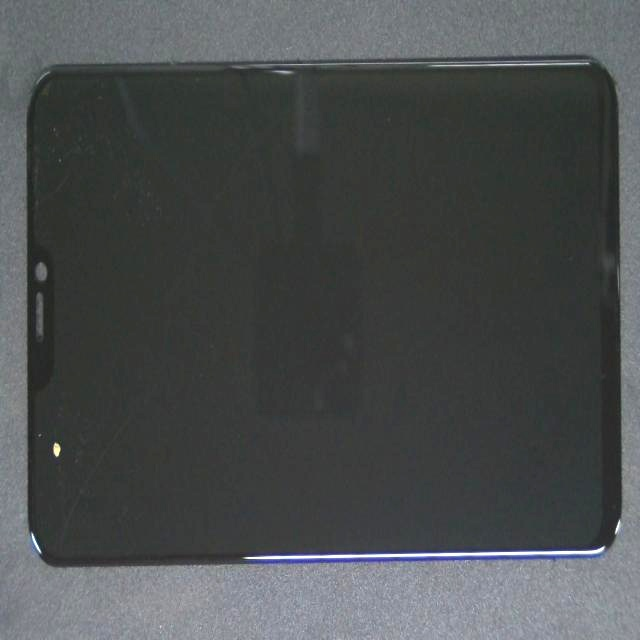stain: (26, 249, 77, 640)
